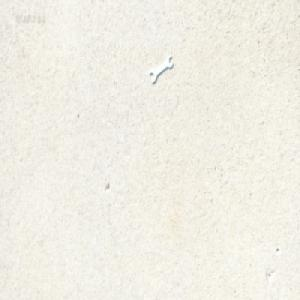Wrench: (149, 54, 172, 84)
